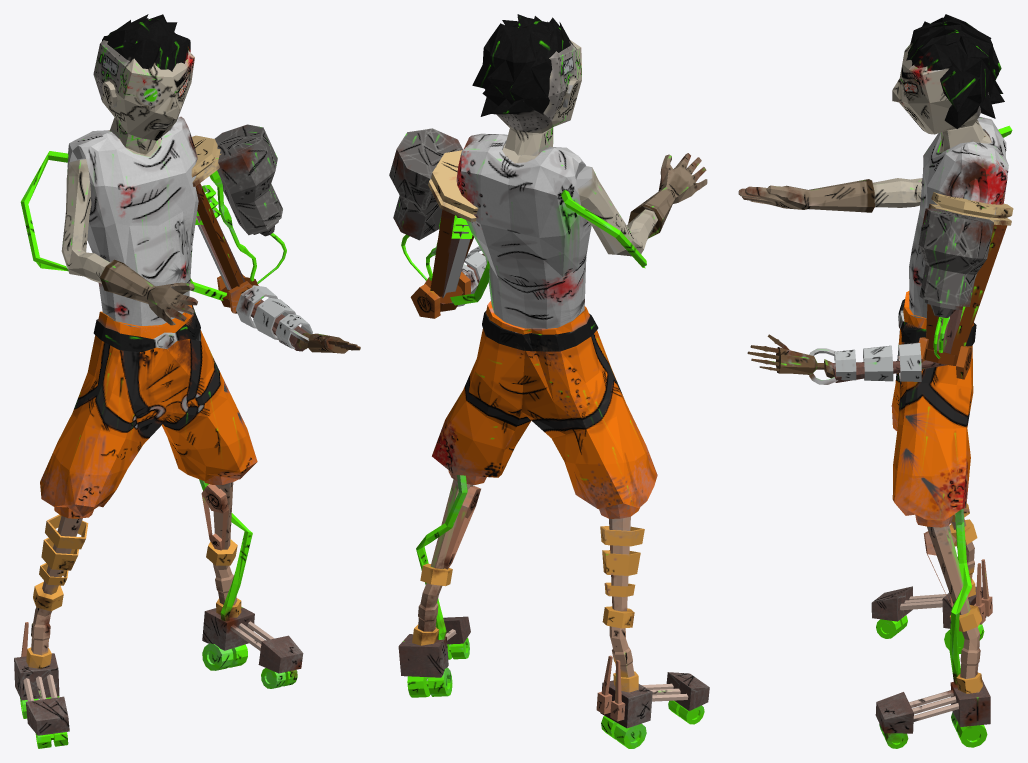
The model's file is CyborgFINALAnimation_000027.obj.
The picture shows the model from 3 angles, left to right: view 1: azimuth 30°, elevation 25°; view 2: azimuth 150°, elevation 25°; view 3: azimuth 270°, elevation 25°; orthographic projection. The views are drawn at different scales.
Visible parts, largest first — view 1: CyborgMesh_Cube.002; view 2: CyborgMesh_Cube.002; view 3: CyborgMesh_Cube.002.
Boxes of the visible parts, <box> form: CyborgMesh_Cube.002: <box>14,14,360,748</box>; CyborgMesh_Cube.002: <box>389,14,709,748</box>; CyborgMesh_Cube.002: <box>738,14,1013,748</box>.
Bounding box in the file's own units: 4.1 × 9.64 × 3.55.
